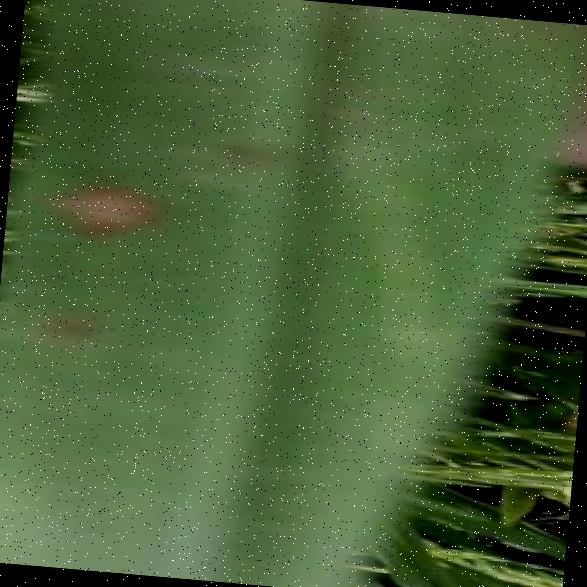Leaf_smut: (39, 121, 178, 255)
